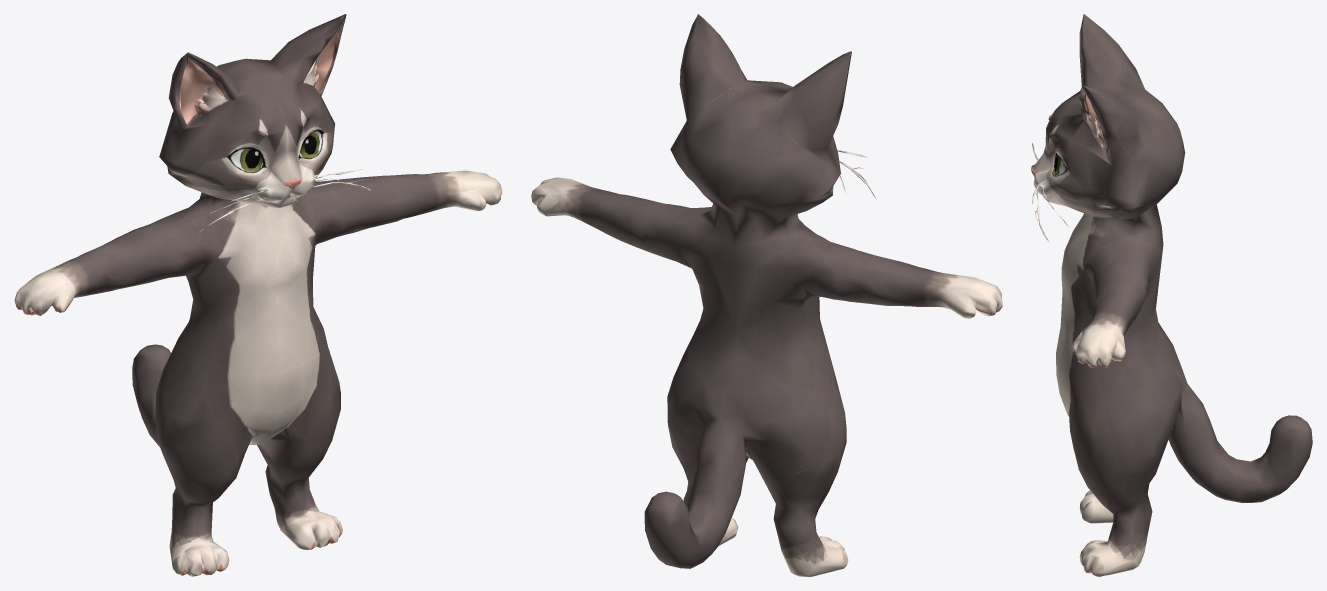
Rendered from cat-arms.glb.
3 renders of one model, left to right at view 1: azimuth 30°, elevation 25°; view 2: azimuth 150°, elevation 25°; view 3: azimuth 270°, elevation 25°, orthographic. The views are drawn at different scales.
Parts seen in each view (by area): view 1: cat; view 2: cat; view 3: cat.
Part boxes in pixels (box(x1,y1,x2,y2)): cat: box(14, 14, 502, 576); cat: box(531, 14, 1002, 576); cat: box(1031, 14, 1312, 576).
Bounding box in the file's own units: 1.8 × 1.9 × 0.9855.
Materials: 1 (1 with a texture image).
